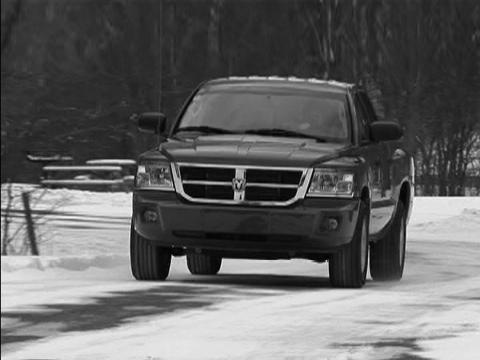car: (128, 71, 417, 292)
